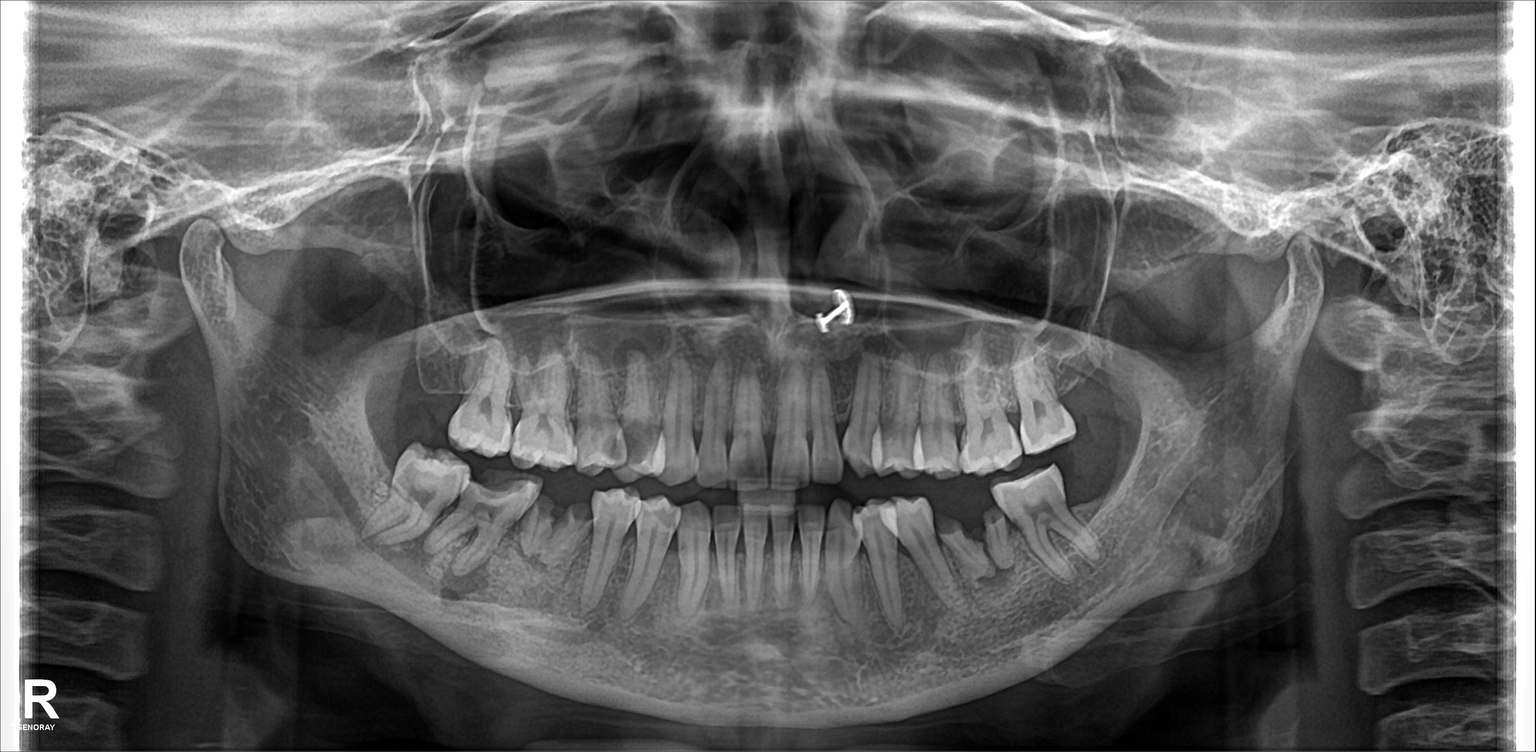Dental Caries: (460, 493, 508, 535), (626, 419, 664, 465)
Missing Tooth: (1060, 348, 1120, 448), (405, 335, 463, 429), (1075, 462, 1129, 539)
Retained Root: (557, 493, 597, 599), (940, 503, 983, 591), (981, 493, 1015, 582), (527, 493, 560, 581)
